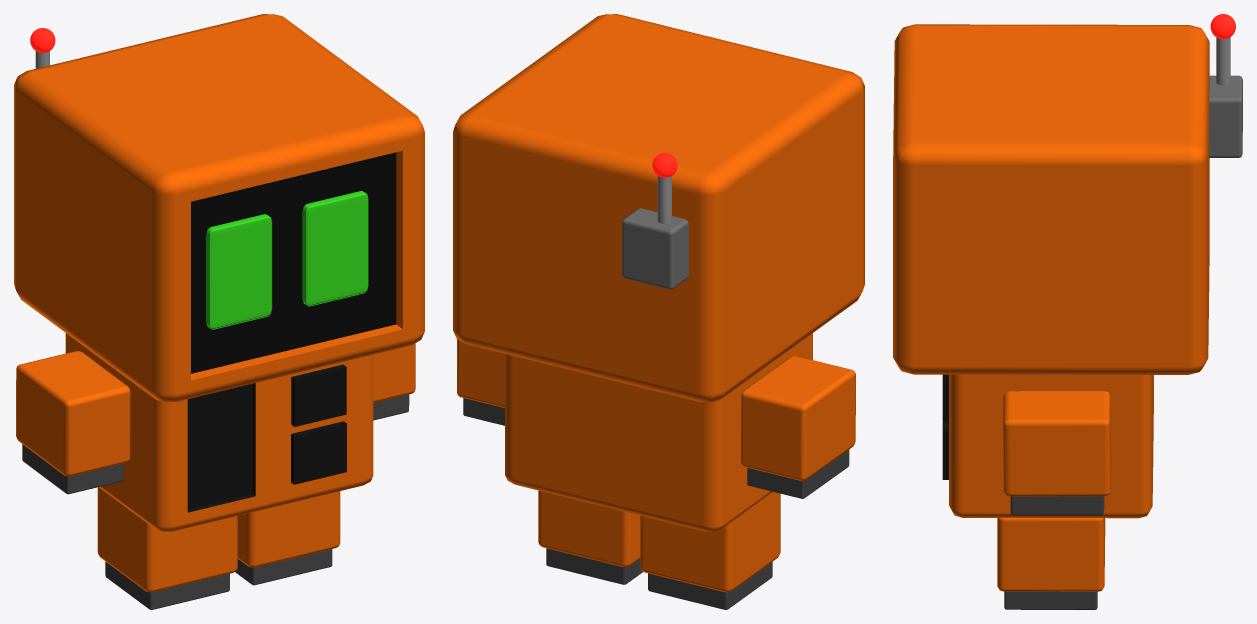
File: flying_robot.glb
3 views of the same model, side by side, from view 1: azimuth 30°, elevation 25°; view 2: azimuth 150°, elevation 25°; view 3: azimuth 270°, elevation 25° (orthographic).
Visible parts, largest first — view 1: Head, Body, Eyes, RArm, RFoot, LFoot, LArm; view 2: Head, Body, RArm, RFoot, LFoot, RadioBox, LArm, Cylinder; view 3: Head, Body, LArm, LFoot, RadioBox, Cylinder, Antrna.
Part boxes in pixels (<box>): Head: <box>14,14,424,401</box>; Body: <box>65,333,373,531</box>; Eyes: <box>206,191,368,329</box>; RArm: <box>16,351,130,494</box>; RFoot: <box>97,487,237,609</box>; LFoot: <box>235,491,340,585</box>; LArm: <box>373,343,415,420</box>; Head: <box>453,14,864,402</box>; Body: <box>505,333,812,531</box>; RArm: <box>741,356,855,498</box>; RFoot: <box>640,492,780,609</box>; LFoot: <box>538,490,642,584</box>; RadioBox: <box>622,208,688,289</box>; LArm: <box>457,339,504,425</box>; Cylinder: <box>657,176,671,223</box>; Head: <box>893,24,1209,374</box>; Body: <box>942,374,1153,518</box>; LArm: <box>1003,391,1111,515</box>; LFoot: <box>997,518,1104,609</box>; RadioBox: <box>1209,75,1242,157</box>; Cylinder: <box>1216,37,1230,85</box>; Antrna: <box>1210,14,1235,39</box>.
Size of the model in its own units: 1.6 by 2.19 by 1.37.
